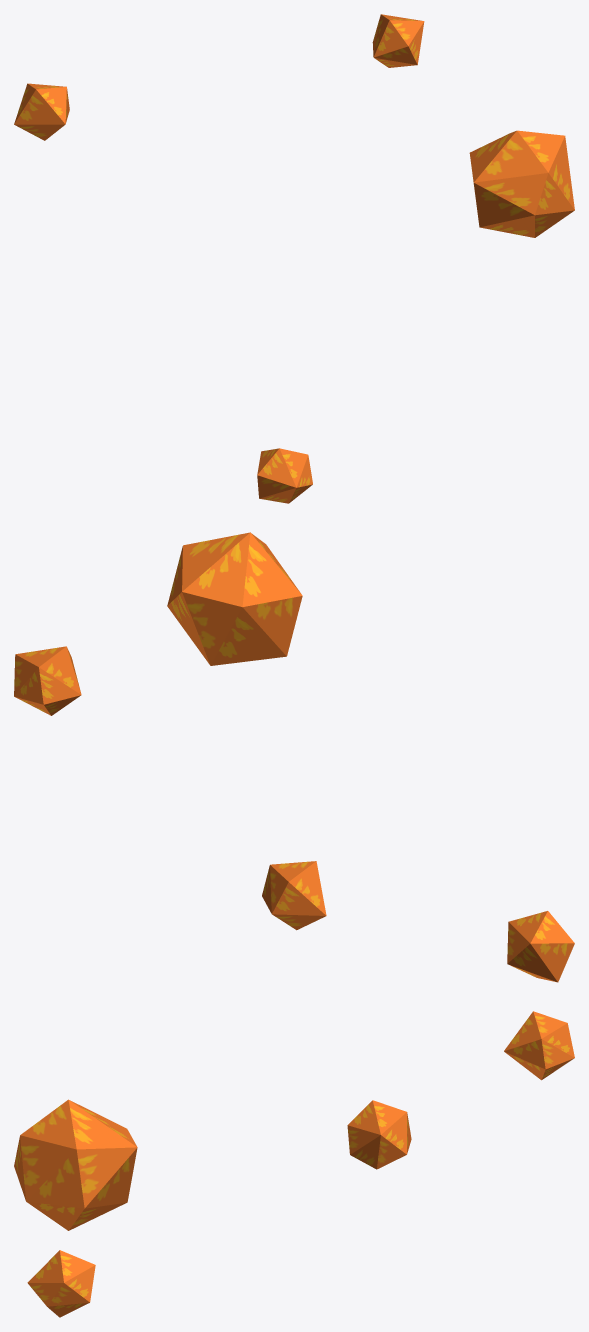
File: fire2.obj
3 views of the same model, one above another, from view 1: azimuth 30°, elevation 25°; view 2: azimuth 150°, elevation 25°; view 3: azimuth 270°, elevation 25° (orthographic). The views are drawn at different scales.
Parts seen in each view (by area): view 1: Icosphere; view 2: Icosphere; view 3: Icosphere.
Part boxes in pixels (x1,y1,x2,y2): Icosphere: (14, 14, 574, 503); Icosphere: (14, 532, 574, 982); Icosphere: (14, 1011, 574, 1317).
Size of the model in its own units: 0.8758 by 0.7755 by 1.13.
1 material, 1 textured.
